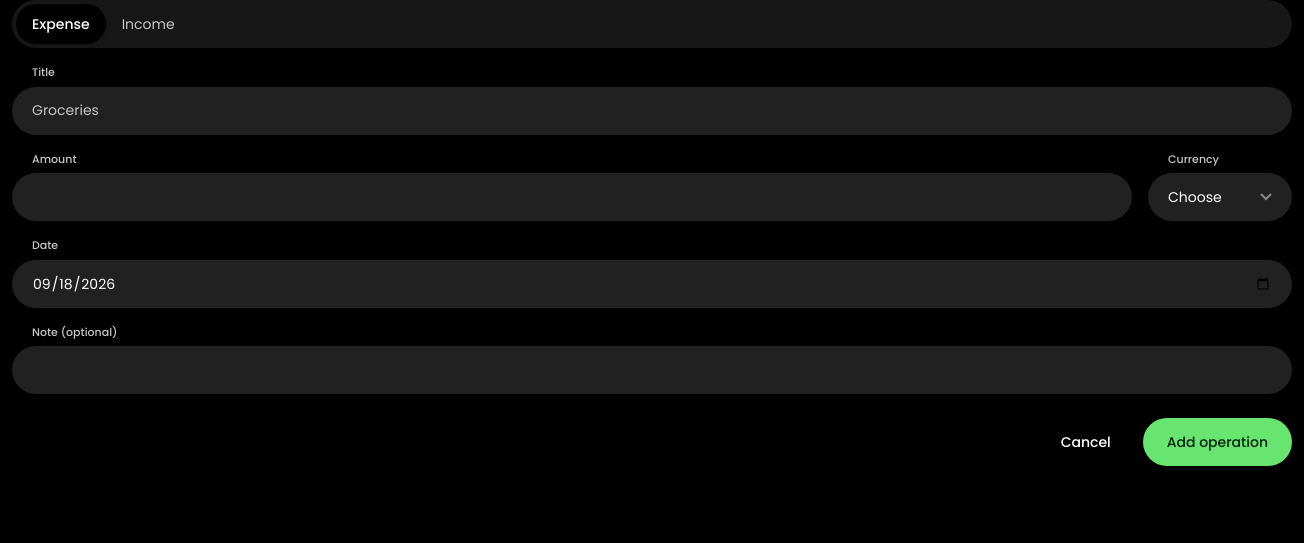
Scenario: OperationForm › explains what is missing instead of sending an empty form
Click the button "Add operation": (1217, 442) [1143,418,1292,466]
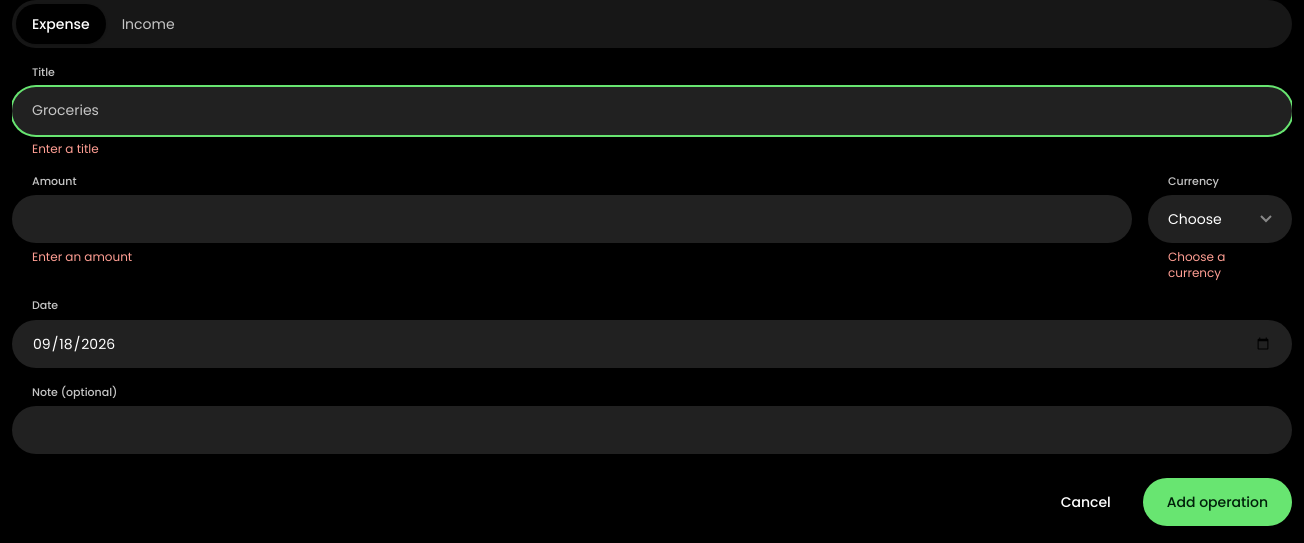
Expected: the text "Enter a title" is shown, [32,140,99,156]
Expected: the text "Enter an amount" is shown, [32,248,132,265]
Expected: the text "Choose a currency" is shown, [1168,248,1225,281]
